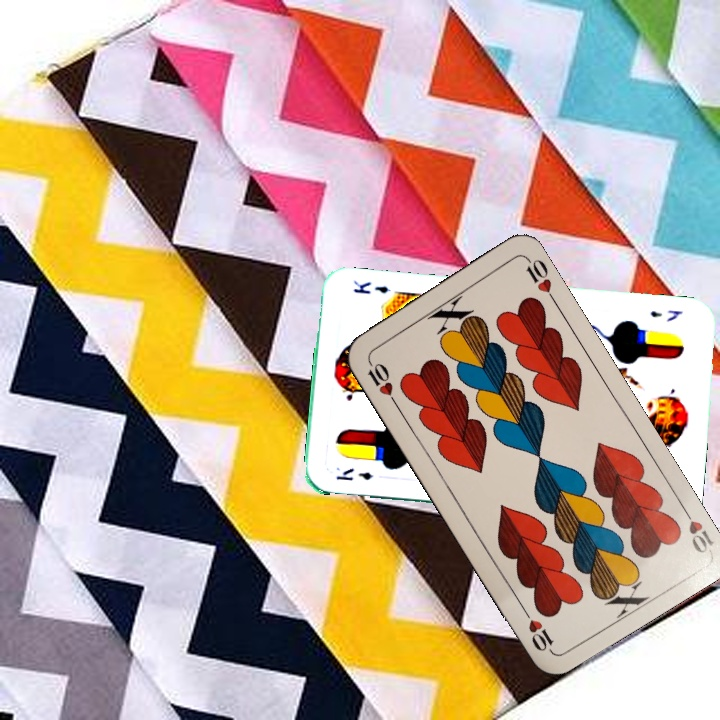EK: (333, 464, 376, 483), (646, 306, 685, 324)
H10: (677, 501, 716, 556), (363, 354, 400, 408)
